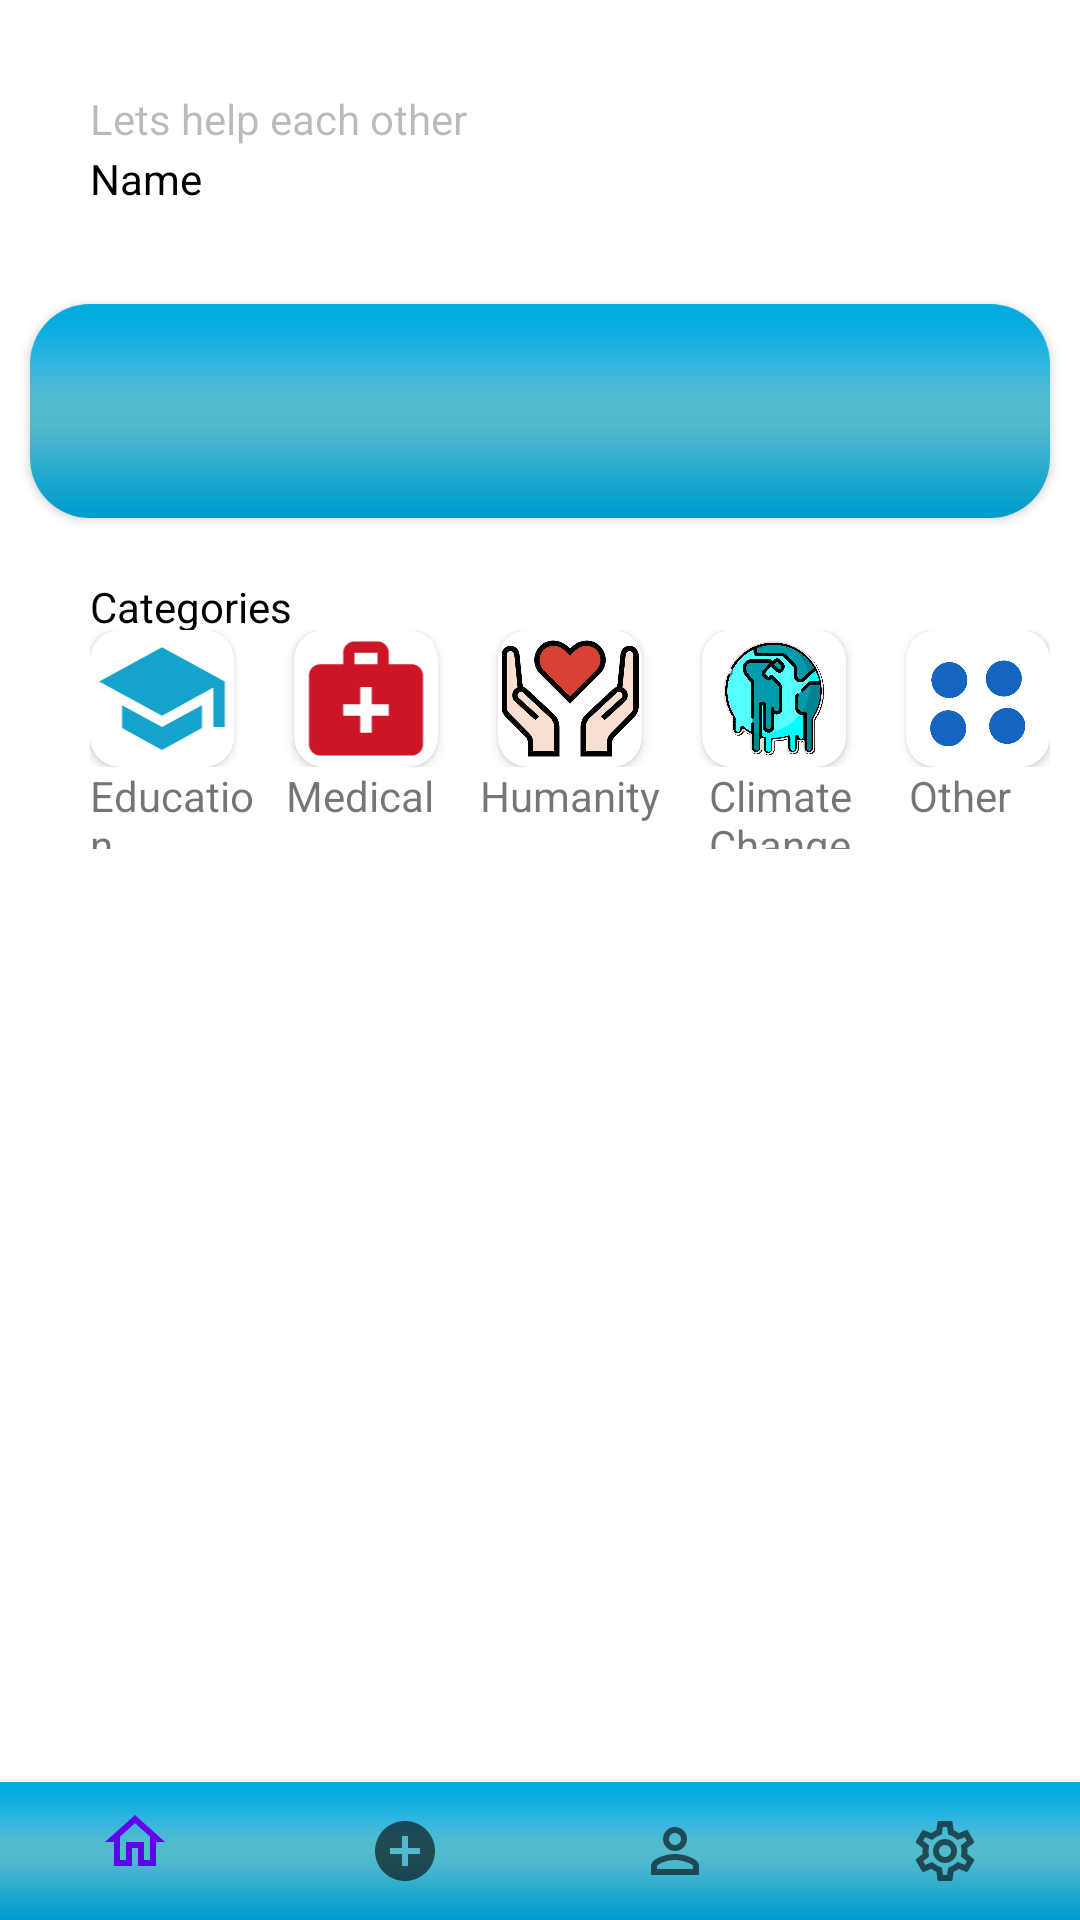

Where icons sit on this 1080x1920 app screen, as [left=x1, top=y1, right=x2, bottom=y2]:
school: [left=90, top=645, right=231, bottom=767]
